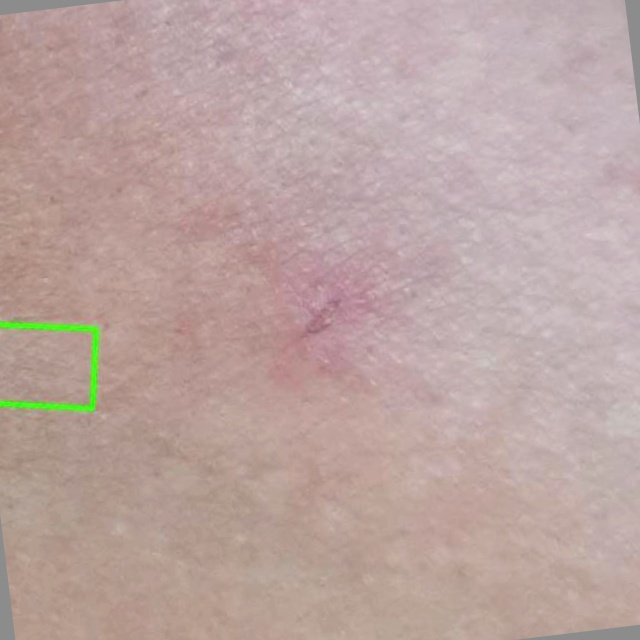Seborrheic Dermatitis: (0, 323, 95, 408)
